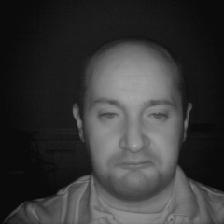normal: (66, 38, 198, 200)
